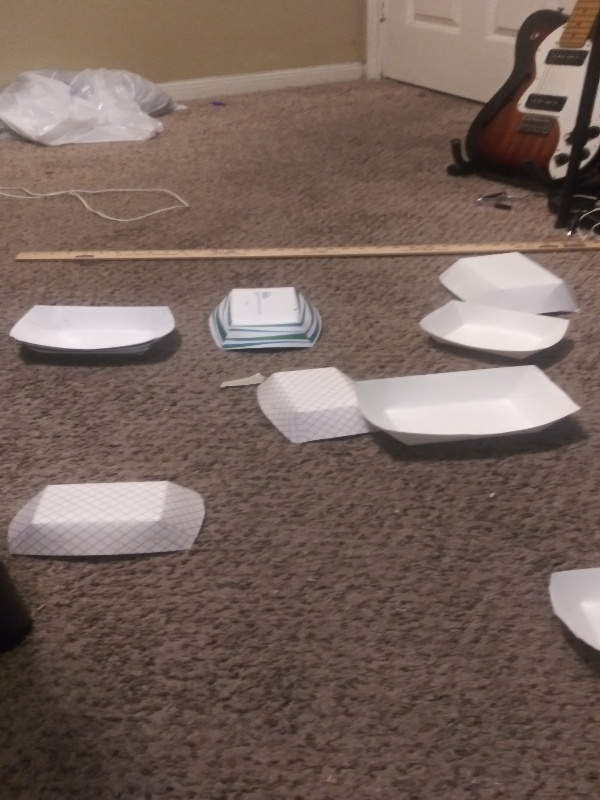plate: (349, 361, 584, 454), (4, 478, 209, 567), (7, 297, 182, 366), (433, 251, 586, 321), (411, 297, 574, 362), (250, 363, 374, 444), (204, 282, 324, 353), (543, 562, 600, 668)
